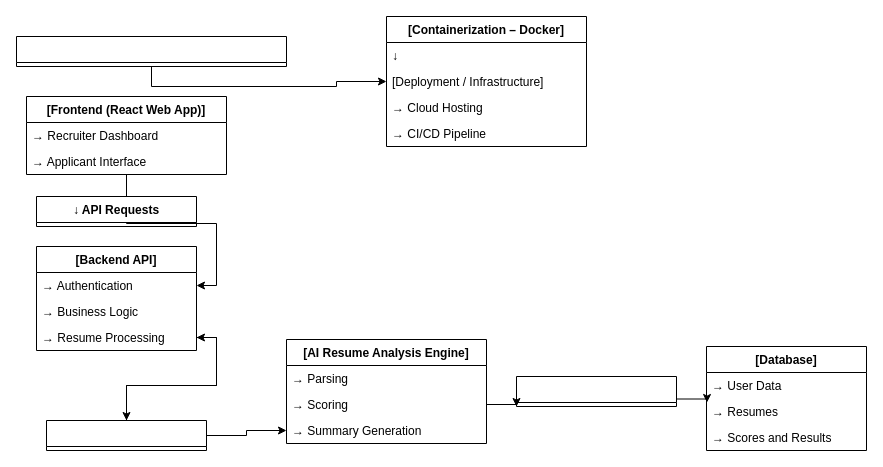
Some shapes in this 883 by 467 pixel diagram are drawn without their labels. Each missing label, with the centre of its shape:
"CVision – High-Level System Architecture" belongs at pixel 151 51.
"↑ Results" belongs at pixel 596 391.
"↓ Resume Data" belongs at pixel 126 435.
